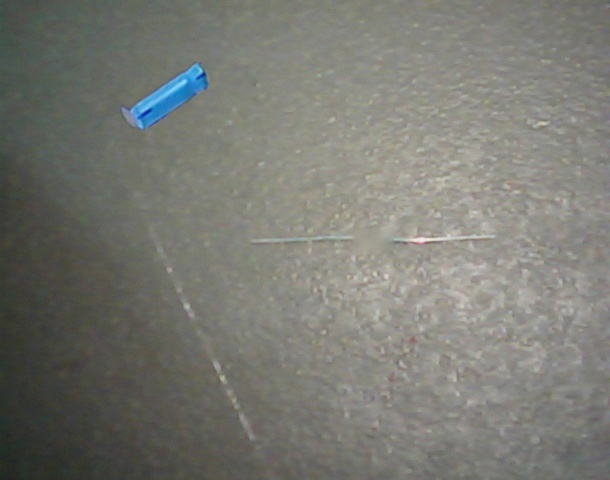capacitor: (121, 62, 210, 130)
